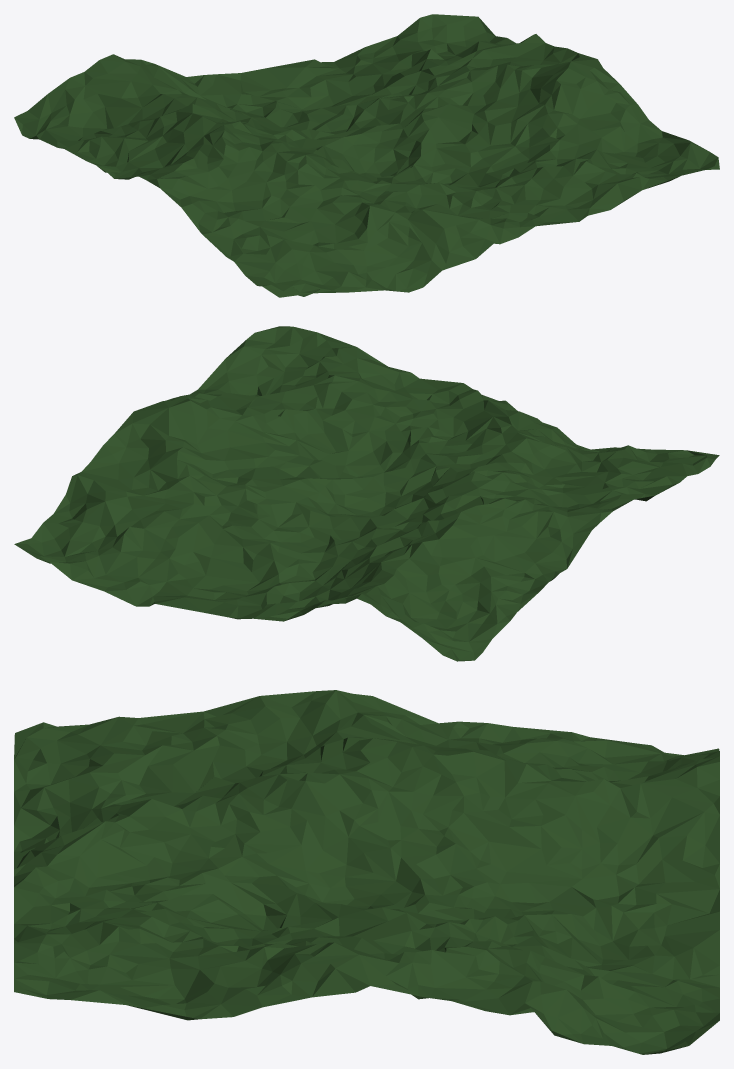
The model's file is SM_landscape_22.fbx.
3 renders of one model, top to bottom at view 1: azimuth 30°, elevation 25°; view 2: azimuth 150°, elevation 25°; view 3: azimuth 270°, elevation 25°, orthographic. The views are drawn at different scales.
Visible parts, largest first — view 1: landscape_22; view 2: landscape_22; view 3: landscape_22.
Part boxes in pixels (left/top/right/bottom): landscape_22: left=14, top=14, right=719, bottom=297; landscape_22: left=14, top=326, right=719, bottom=661; landscape_22: left=14, top=690, right=719, bottom=1054.
Bounding box in the file's own units: 2224 × 367 × 2224.
